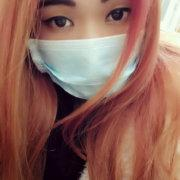OK: (30, 3, 139, 103)
